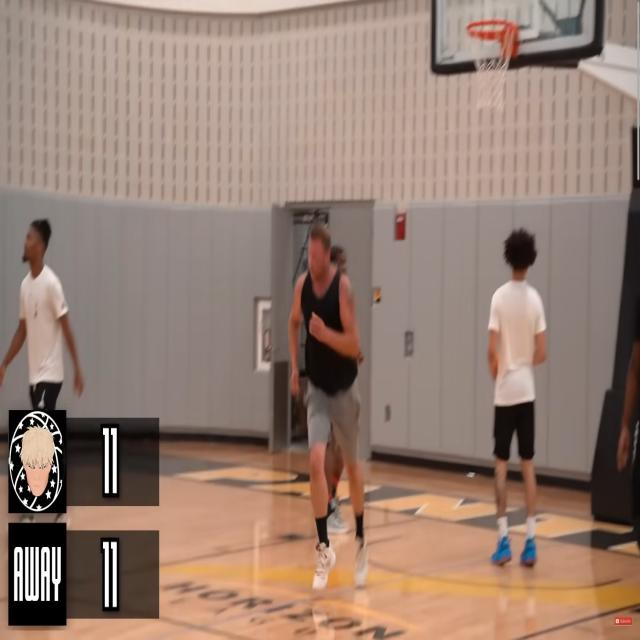Basketball Rim: (467, 18, 518, 106)
Player: (287, 224, 372, 598), (485, 229, 547, 572), (0, 218, 86, 408)
